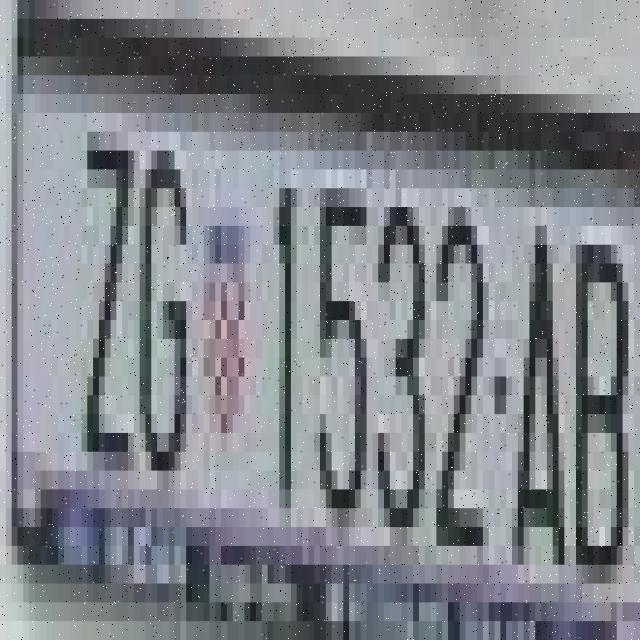1: (262, 160, 297, 518)
2: (431, 198, 488, 555)
3: (375, 188, 428, 527)
5: (312, 170, 369, 508)
A: (509, 207, 567, 565)
B: (573, 226, 631, 583)
G: (134, 132, 192, 470)
Z: (75, 122, 134, 462)
